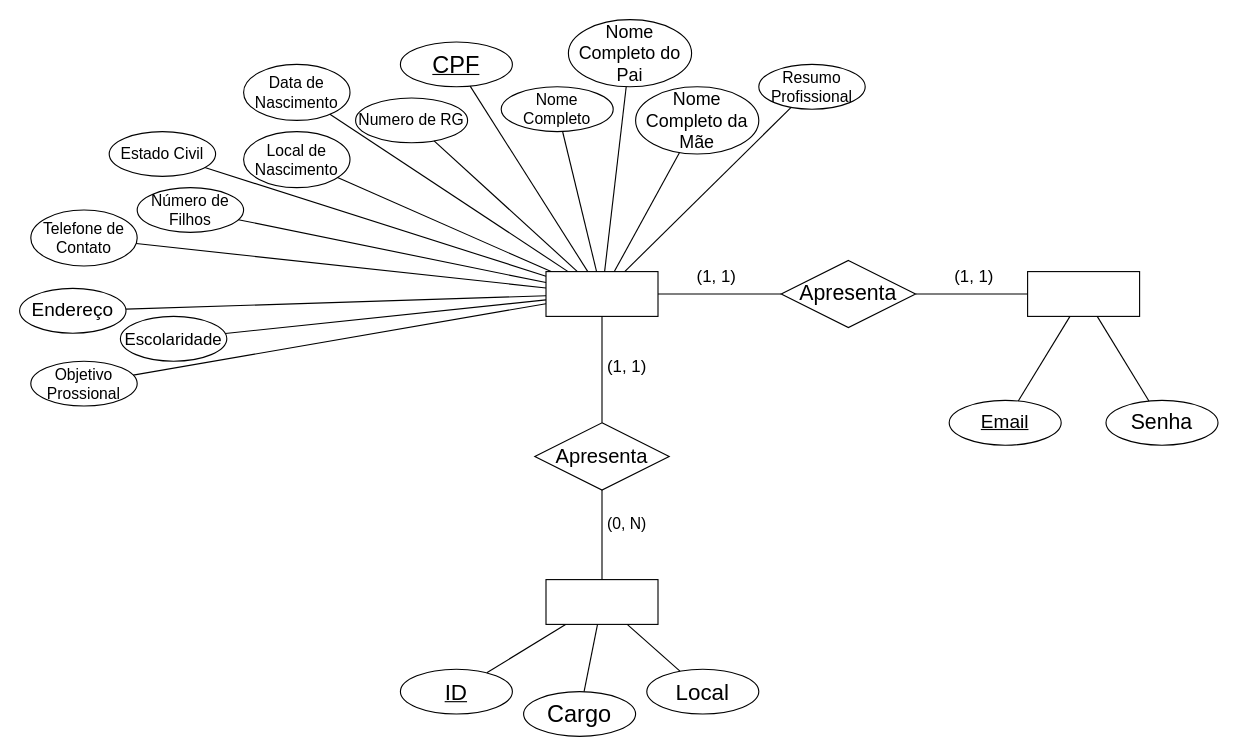
This 1238x756 diagram has some shape labels left out. The shapes that lost their labels are listed below. From the top down, each one's box as (x1, y1, x2, y2) in pixels, then its label:
(545, 270, 658, 316): Trabalhador
(1026, 270, 1140, 316): Usuário
(545, 578, 658, 624): Experiência Profissional
